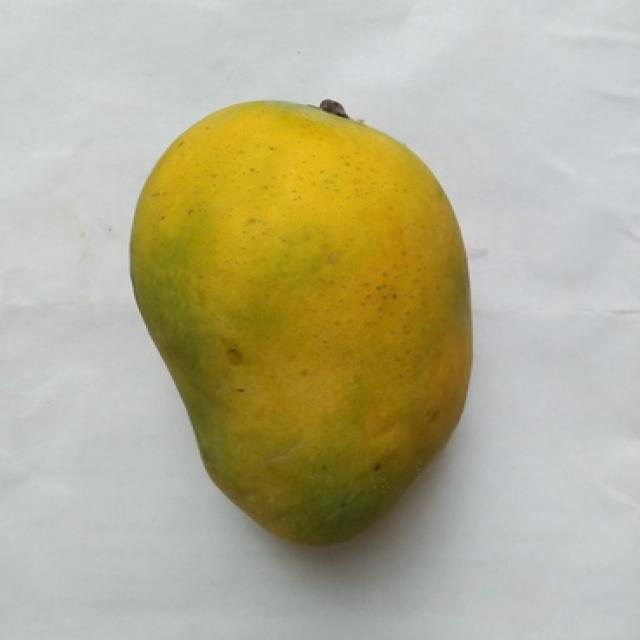Mango: (130, 103, 471, 544)
